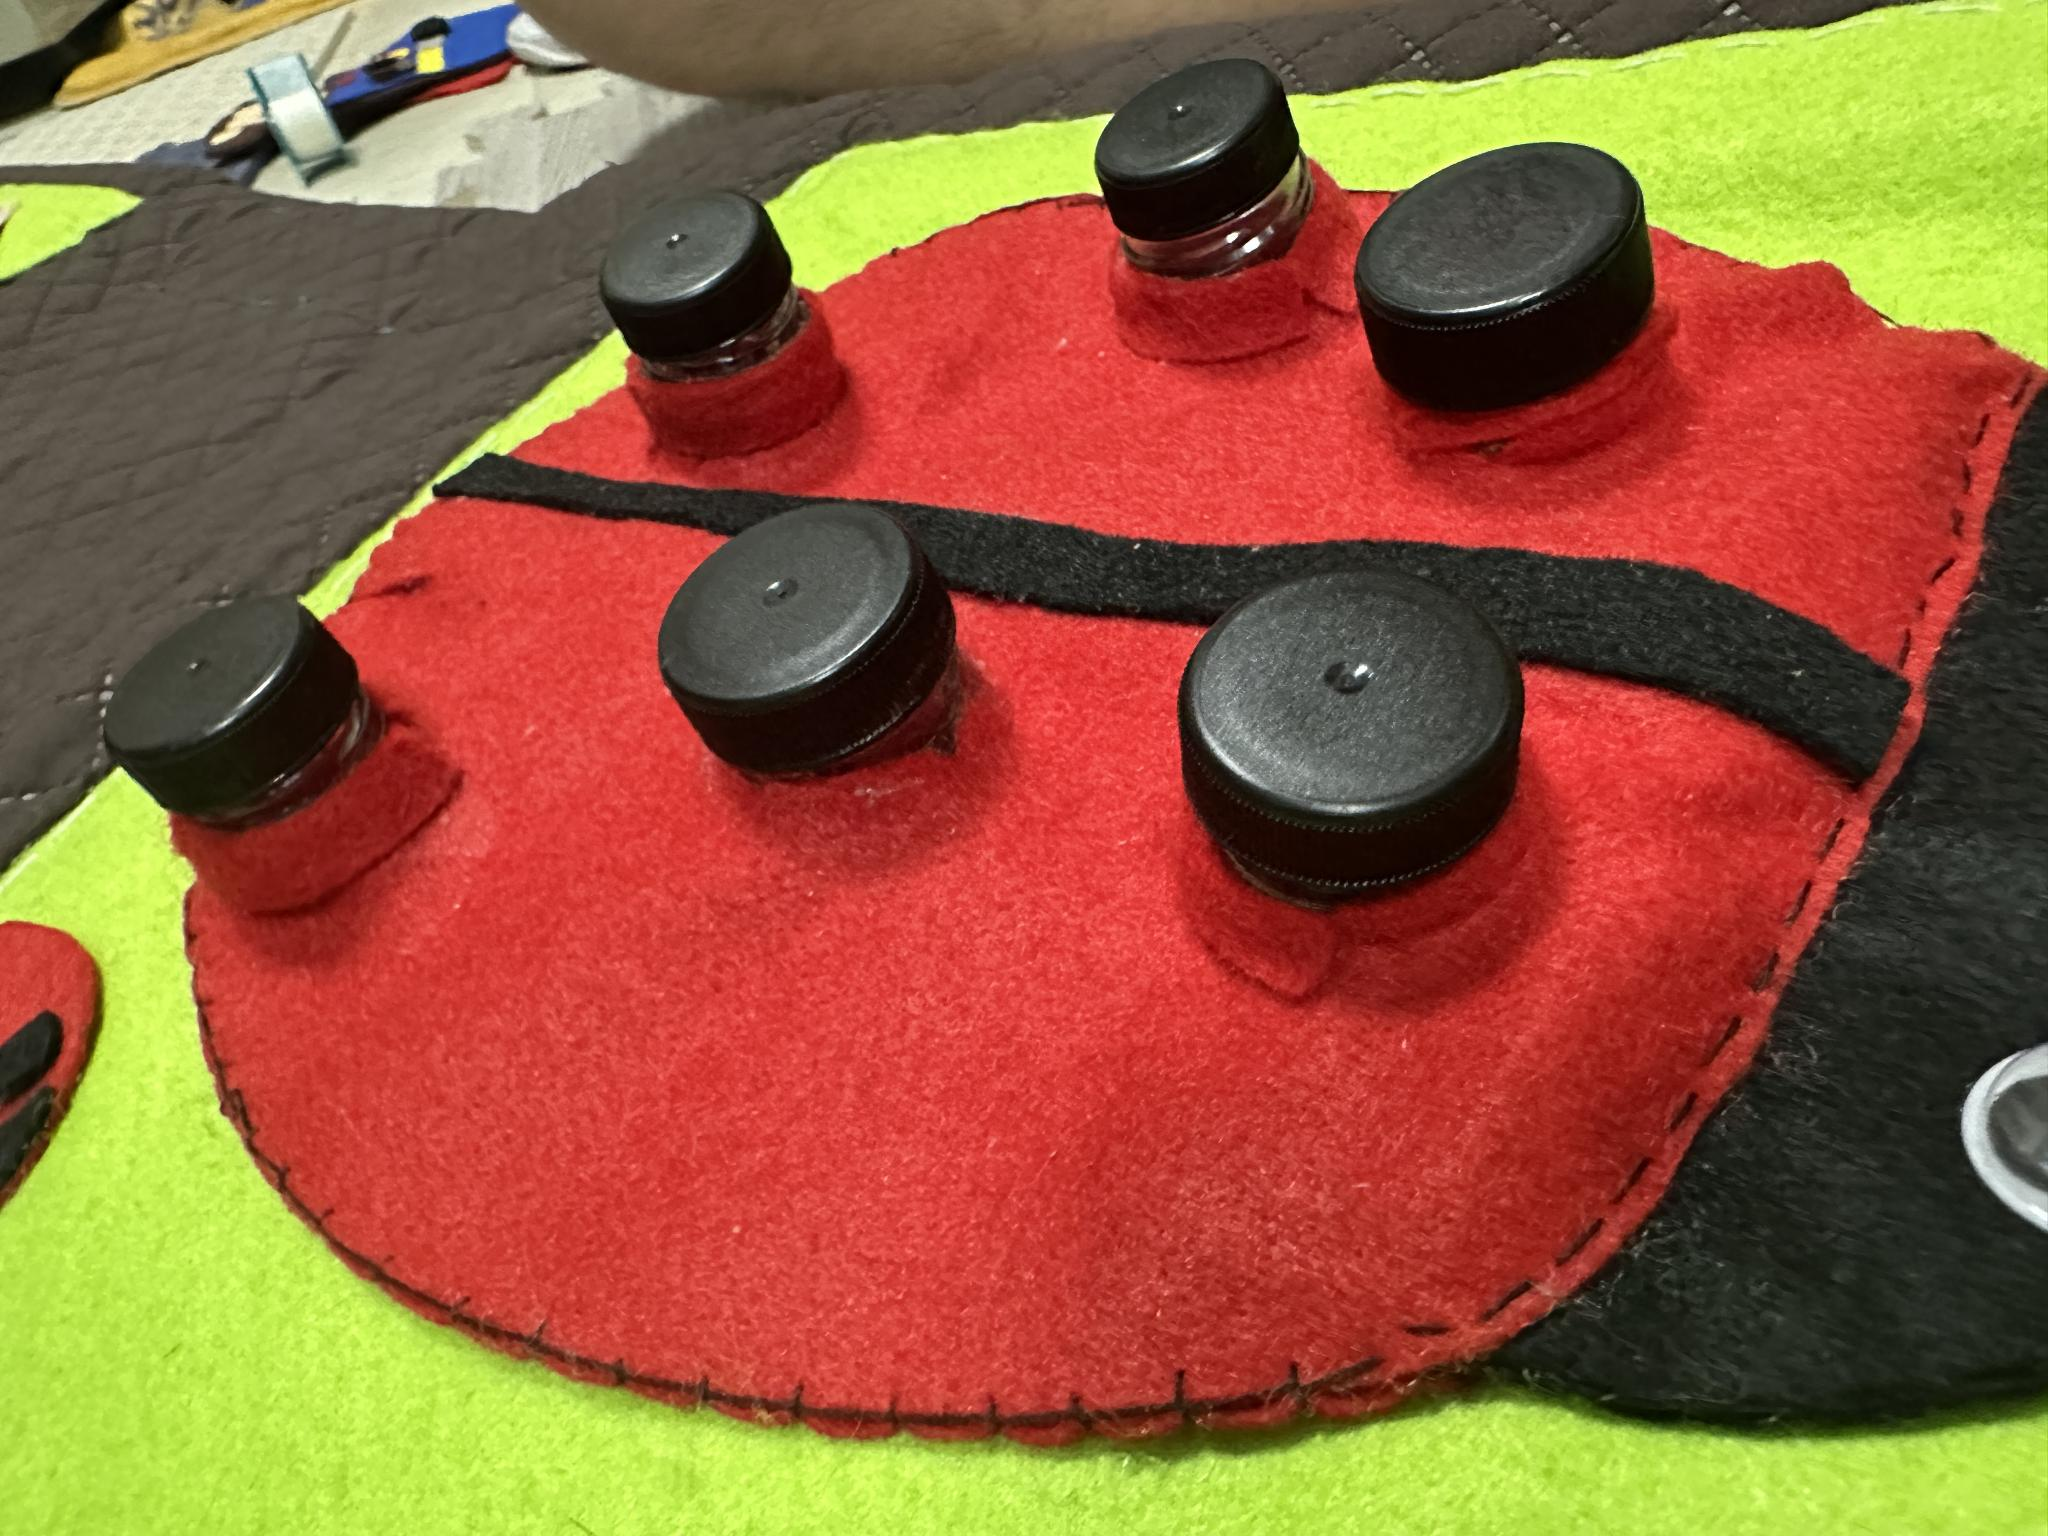cap_ng: (69, 587, 461, 921), (1087, 44, 1345, 381), (590, 187, 866, 466)
cap_ok: (1147, 544, 1555, 1037), (1347, 97, 1671, 476), (648, 490, 998, 837)
